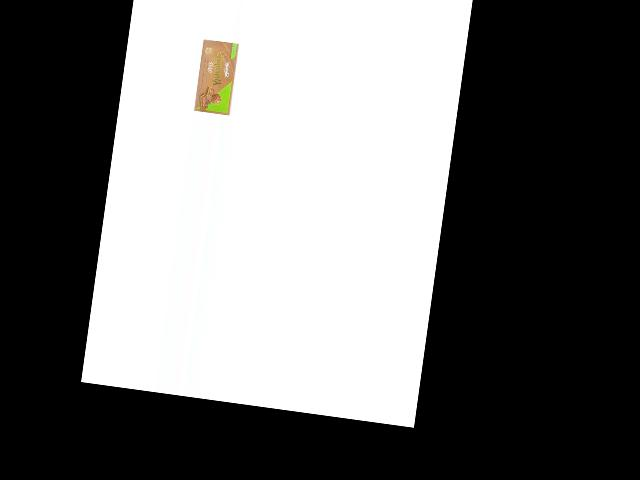chocolate: (192, 36, 242, 116)
